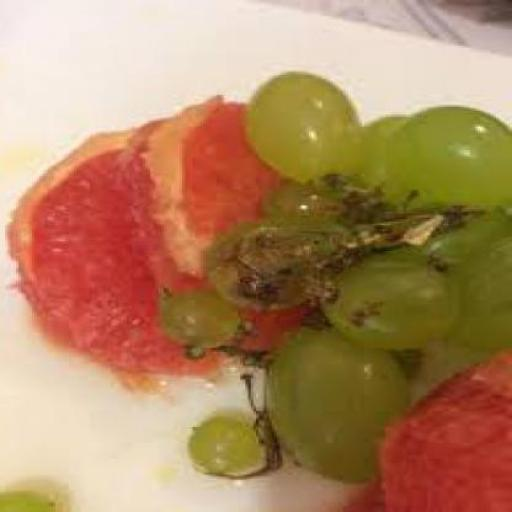biodegradable: (10, 96, 322, 374), (354, 348, 511, 510), (266, 318, 412, 481), (327, 249, 459, 352), (388, 102, 510, 211), (253, 72, 359, 178), (211, 218, 319, 306), (436, 233, 510, 348), (150, 288, 251, 354), (356, 113, 420, 190), (430, 204, 510, 261), (264, 170, 348, 219), (190, 414, 262, 470), (2, 488, 58, 510)
